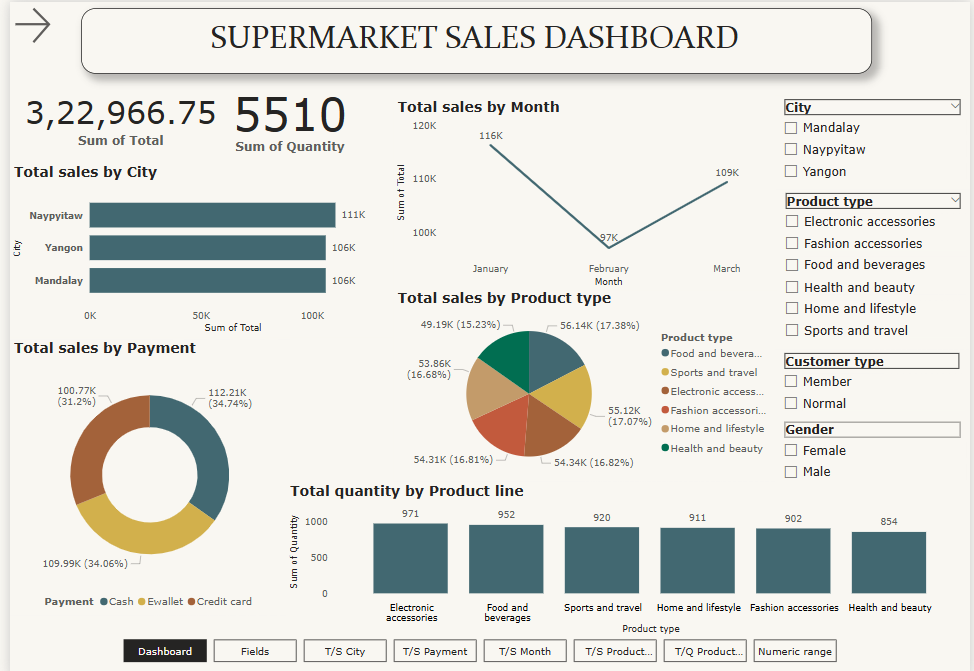

The dashboard page shown, as its layout file describes it:
{"tool":"powerbi","page":{"name":"Dashboard","canvas":[1280,900],"ordinal":0},"visuals":[{"type":"actionButton","box":[0,0,59.1,62.7],"z":0},{"type":"card","fields":{"Values":["Sum(supermarket_sales.Total)"]},"box":[7.5,95,278.8,122.5],"z":1000},{"type":"card","fields":{"Values":["Sum(supermarket_sales.Quantity)"]},"box":[286.7,95,173.3,121.7],"z":2000},{"type":"clusteredBarChart","title":" Total sales by City","fields":{"Category":["supermarket_sales.City"],"Y":["Sum(supermarket_sales.Total)"]},"box":[0,215,510,231.7],"z":3000},{"type":"pieChart","title":"Total sales by Product type","fields":{"Category":["supermarket_sales.Product line"],"Y":["Sum(supermarket_sales.Total)"]},"box":[512,384,512,256],"z":4000},{"type":"lineChart","title":" Total sales by Month","fields":{"Y":["Sum(supermarket_sales.Total)"],"Category":["supermarket_sales.Date.Variation.Date Hierarchy.Month"]},"box":[512,128,512,256],"z":5000},{"type":"donutChart","title":"Total sales by Payment","fields":{"Category":["supermarket_sales.Payment"],"Y":["Sum(supermarket_sales.Total)"]},"box":[0,450,373.3,368.3],"z":6000},{"type":"clusteredColumnChart","title":"Total quantity by Product line","fields":{"Category":["supermarket_sales.Product line"],"Y":["Sum(supermarket_sales.Quantity)"]},"box":[368,640,912,208],"z":7000},{"type":"slicer","fields":{"Values":["supermarket_sales.City"]},"box":[1020,125,260,123.8],"z":8000},{"type":"slicer","fields":{"Values":["supermarket_sales.Product line"]},"box":[1021.2,250,258.8,212.5],"z":9000},{"type":"slicer","fields":{"Values":["supermarket_sales.Customer type"]},"box":[1020,462.5,258.8,92.5],"z":10000},{"type":"slicer","fields":{"Values":["supermarket_sales.Gender"]},"box":[1020,555,260,93.8],"z":11000},{"type":"textbox","box":[95.7,8.6,1054.3,87.1],"z":12000},{"type":"pageNavigator","box":[151.2,850,950,30],"z":13000}]}

Visuals, with their boxes on the page's 1280x900 design canvas (x1, y1, x2, y2). These are canvas units, not pixel positions in the 974x671 screenshot, which may show the page scaled, cropped or inside an application window:
actionButton: [0,0,59,63]
card - Sum(supermarket_sales.Total): [8,95,286,218]
card - Sum(supermarket_sales.Quantity): [287,95,460,217]
" Total sales by City" clusteredBarChart: [0,215,510,447]
"Total sales by Product type" pieChart: [512,384,1024,640]
" Total sales by Month" lineChart: [512,128,1024,384]
"Total sales by Payment" donutChart: [0,450,373,818]
"Total quantity by Product line" clusteredColumnChart: [368,640,1280,848]
slicer - supermarket_sales.City: [1020,125,1280,249]
slicer - supermarket_sales.Product line: [1021,250,1280,462]
slicer - supermarket_sales.Customer type: [1020,462,1279,555]
slicer - supermarket_sales.Gender: [1020,555,1280,649]
textbox: [96,9,1150,96]
pageNavigator: [151,850,1101,880]
